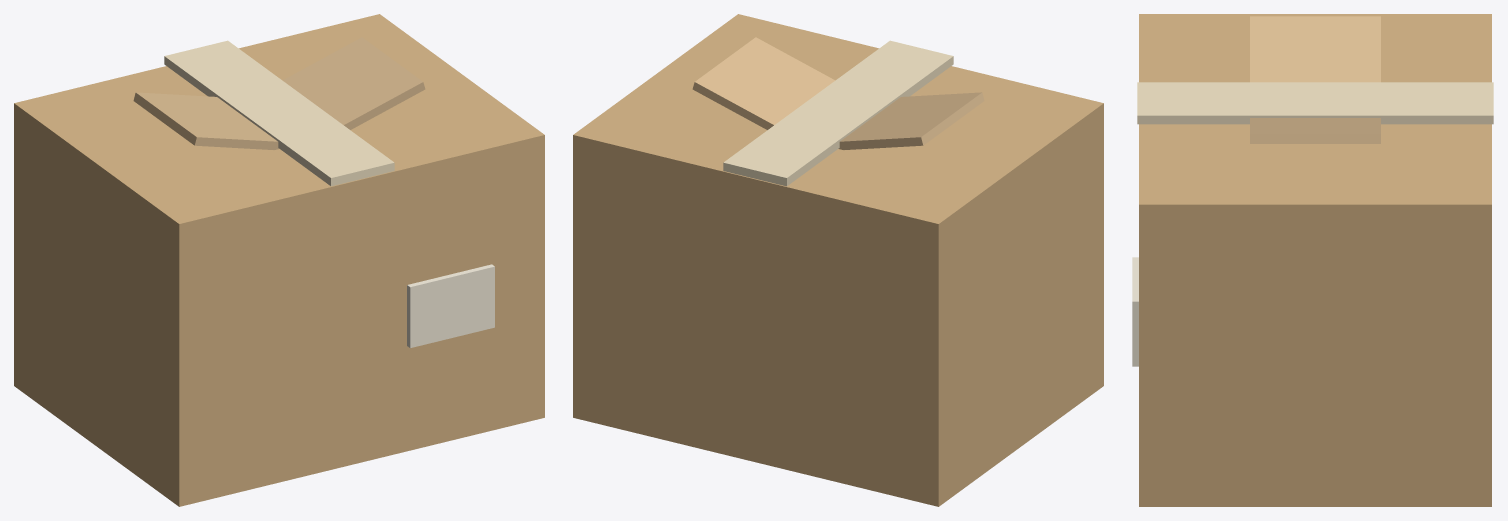
Rendered from package_box.glb.
3 renders of one model, left to right at view 1: azimuth 30°, elevation 25°; view 2: azimuth 150°, elevation 25°; view 3: azimuth 270°, elevation 25°, orthographic. The views are drawn at different scales.
Parts seen in each view (by area): view 1: box-base, box-tape, box-flap-right, box-label, box-flap-left; view 2: box-base, box-tape, box-flap-right, box-flap-left; view 3: box-base, box-tape, box-flap-left, box-flap-right, box-label.
Boxes of the visible parts, x1,y1,x2,y2 form: box-base: [14, 14, 544, 506]; box-tape: [164, 40, 394, 186]; box-flap-right: [282, 37, 425, 129]; box-label: [407, 264, 494, 348]; box-flap-left: [133, 92, 279, 149]; box-base: [573, 14, 1103, 506]; box-tape: [723, 40, 953, 186]; box-flap-right: [692, 37, 835, 129]; box-flap-left: [838, 92, 984, 149]; box-base: [1139, 14, 1491, 506]; box-tape: [1137, 82, 1493, 124]; box-flap-left: [1250, 16, 1380, 82]; box-flap-right: [1250, 118, 1380, 143]; box-label: [1132, 257, 1138, 366].
Bounding box in the file's own units: 1.38 × 1.14 × 1.11.
